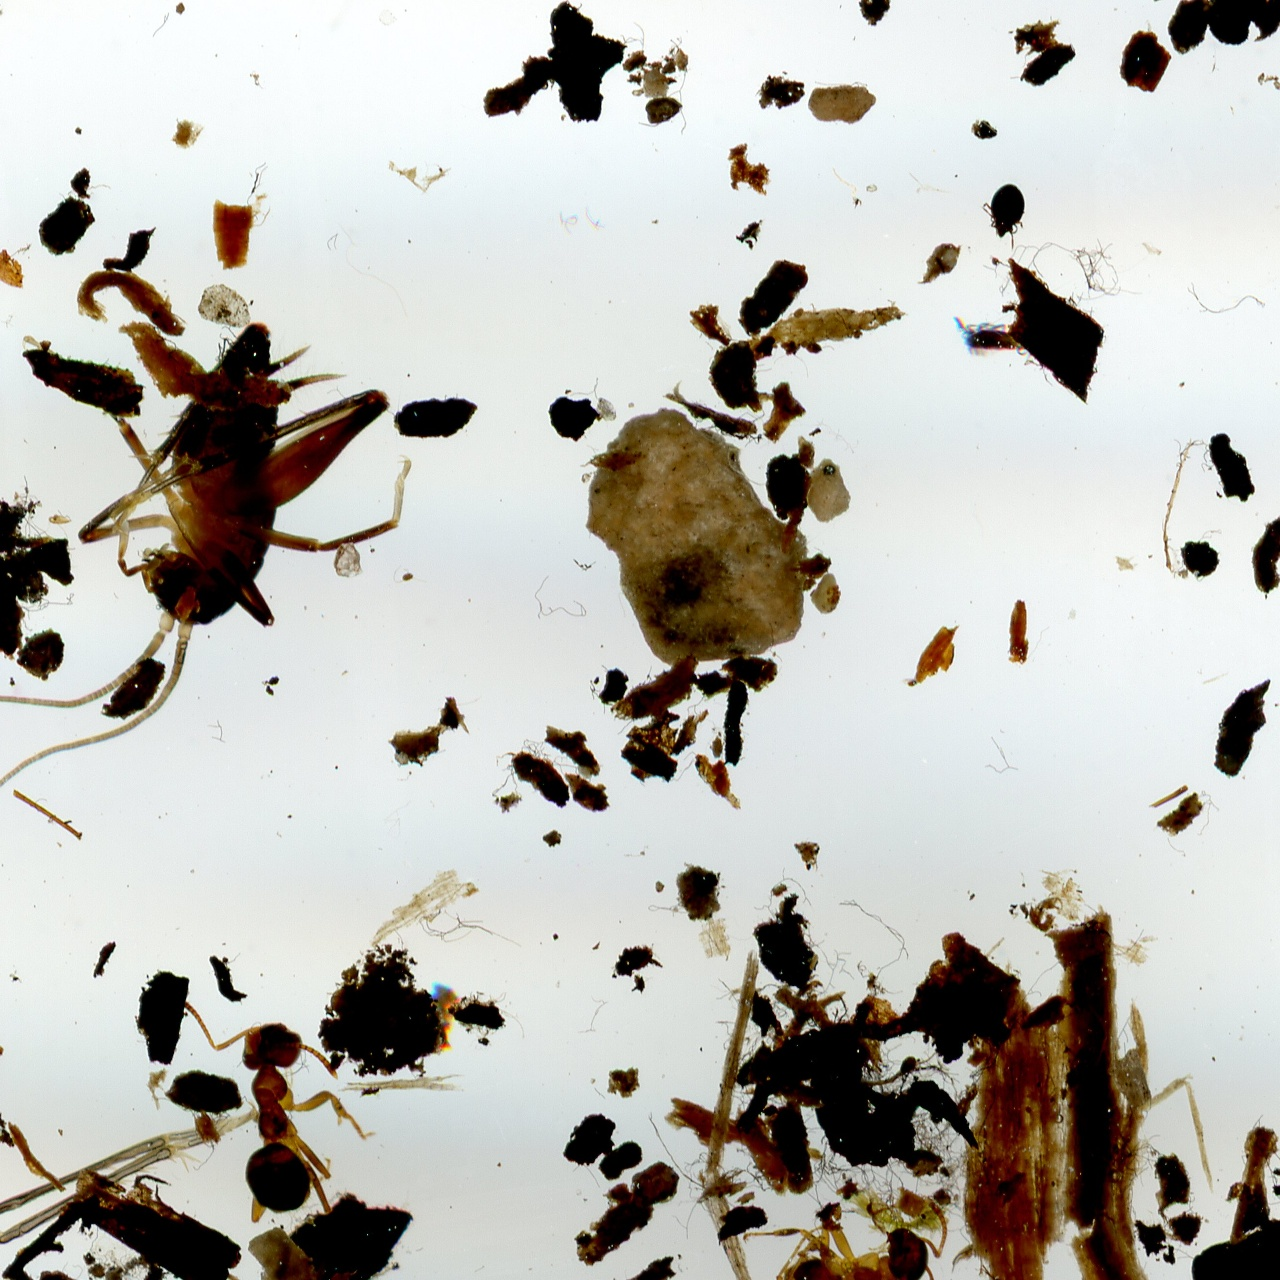arthropod: (0, 216, 496, 982), (0, 819, 503, 1280), (182, 998, 380, 1228), (742, 1199, 949, 1280), (951, 313, 1033, 363), (978, 179, 1028, 253)
